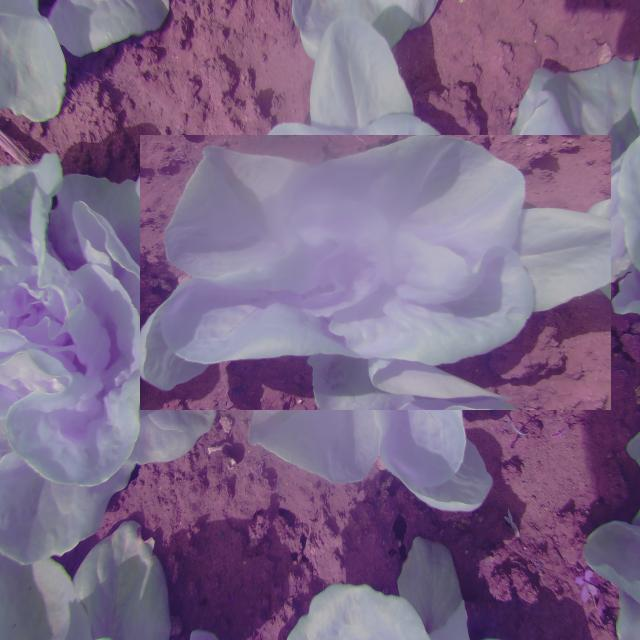vege: (188, 86, 562, 459)
